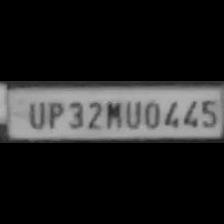0: (140, 97, 160, 129)
2: (84, 98, 102, 130)
3: (64, 97, 84, 128)
4: (161, 96, 179, 128), (180, 96, 198, 128)
5: (198, 95, 218, 127)
M: (102, 98, 122, 130)
P: (44, 97, 64, 128)
U: (23, 97, 45, 128), (124, 97, 142, 129)
